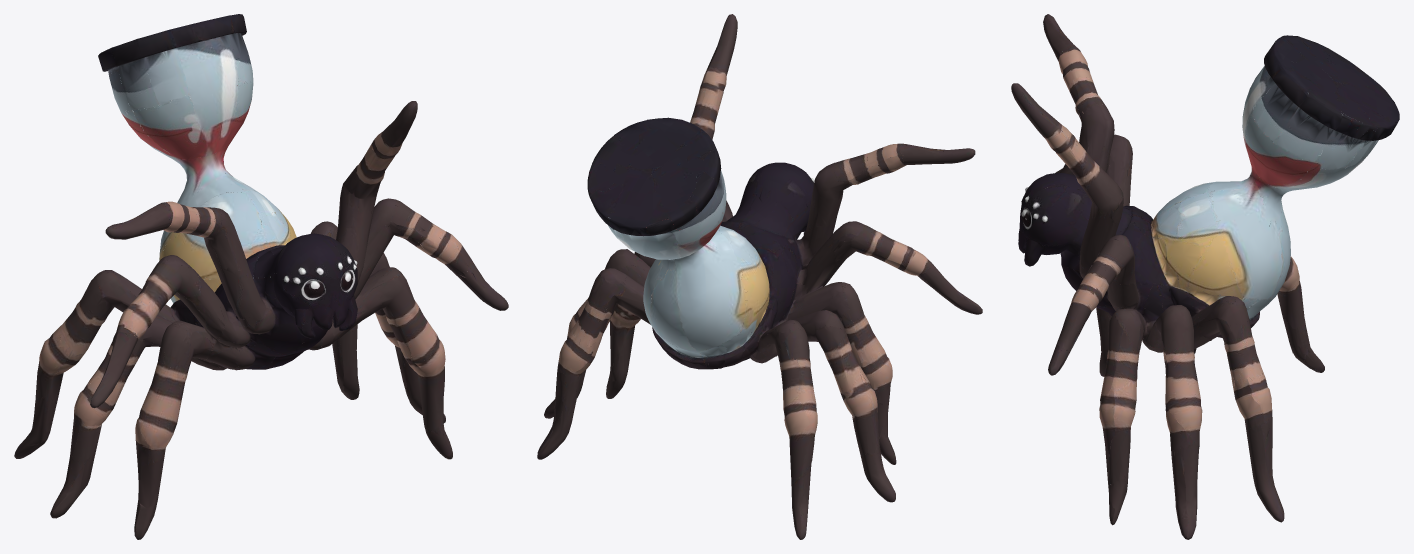
3 renders of one model, left to right at view 1: azimuth 30°, elevation 25°; view 2: azimuth 150°, elevation 25°; view 3: azimuth 270°, elevation 25°, orthographic. The views are drawn at different scales.
Visible parts, largest first — view 1: Mesh_0; view 2: Mesh_0; view 3: Mesh_0.
Part boxes in pixels (left/top/right/bottom): Mesh_0: left=14, top=14, right=508, bottom=539; Mesh_0: left=537, top=14, right=982, bottom=539; Mesh_0: left=1011, top=14, right=1399, bottom=539.
Size of the model in its own units: 1.9 by 1.79 by 1.57.
Materials: 1 (1 with a texture image).
